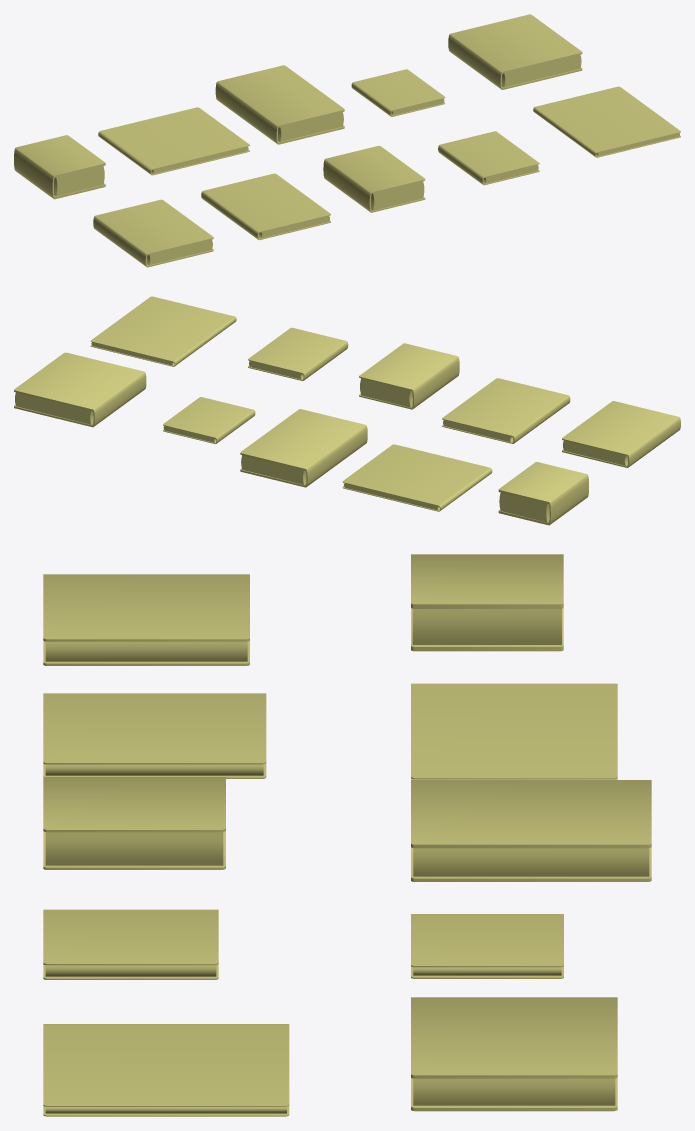
The model's file is Books.fbx.
3 views of the same model, one above another, from view 1: azimuth 30°, elevation 25°; view 2: azimuth 150°, elevation 25°; view 3: azimuth 270°, elevation 25° (orthographic). The views are drawn at different scales.
Visible parts, largest first — view 1: Book_10, Book_08, Book_07, Book_05, Book_02, Book_01, Book_03, Book_06, Book_04, Book_09; view 2: Book_10, Book_08, Book_07, Book_05, Book_02, Book_01, Book_03, Book_06, Book_04, Book_09; view 3: Book_08, Book_10, Book_05, Book_07, Book_01, Book_02, Book_03, Book_06, Book_04, Book_09.
Part boxes in pixels (left/top/right/bottom): Book_10: left=448, top=14, right=582, bottom=89; Book_08: left=215, top=65, right=344, bottom=144; Book_07: left=98, top=107, right=249, bottom=175; Book_05: left=533, top=86, right=680, bottom=157; Book_02: left=201, top=173, right=330, bottom=240; Book_01: left=93, top=199, right=213, bottom=267; Book_03: left=323, top=146, right=425, bottom=212; Book_06: left=14, top=135, right=105, bottom=199; Book_04: left=438, top=131, right=539, bottom=185; Book_09: left=351, top=69, right=445, bottom=116; Book_10: left=14, top=352, right=146, bottom=427; Book_08: left=240, top=409, right=367, bottom=487; Book_07: left=342, top=444, right=492, bottom=511; Book_05: left=90, top=296, right=236, bottom=366; Book_02: left=442, top=378, right=570, bottom=443; Book_01: left=562, top=401, right=680, bottom=467; Book_03: left=359, top=343, right=459, bottom=409; Book_06: left=498, top=462, right=588, bottom=525; Book_04: left=248, top=327, right=348, bottom=380; Book_09: left=163, top=397, right=255, bottom=443; Book_08: left=411, top=780, right=651, bottom=881; Book_10: left=411, top=997, right=617, bottom=1111; Book_05: left=43, top=1024, right=289, bottom=1116; Book_07: left=411, top=683, right=617, bottom=779; Book_01: left=43, top=574, right=249, bottom=665; Book_02: left=43, top=693, right=266, bottom=778; Book_03: left=43, top=777, right=225, bottom=869; Book_06: left=411, top=554, right=563, bottom=651; Book_04: left=43, top=909, right=218, bottom=979; Book_09: left=411, top=914, right=563, bottom=978.
Bounding box in the file's own units: 124 × 5.22 × 61.53.
